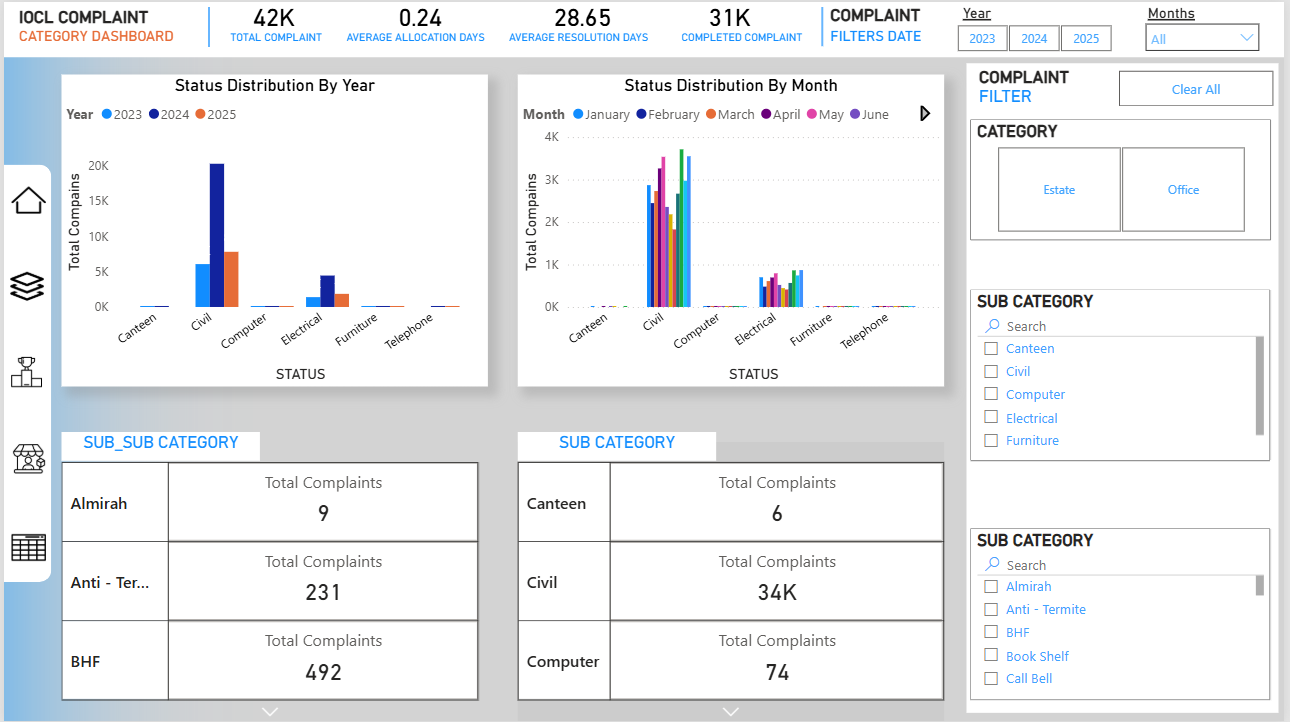

What the dashboard file says about the page in this screenshot:
{"tool":"powerbi","page":{"name":"Categories","canvas":[1280,720],"ordinal":1},"visuals":[{"type":"shape","box":[0,0,1280,55.4],"z":0},{"type":"card","fields":{"Values":["Complaints.Total Complaints"]},"box":[176.6,0,187.8,29.1],"z":1000},{"type":"shape","box":[962,61.6,312.1,649.9],"z":1000,"group":"g1"},{"type":"slicer","fields":{"Values":["Complaints.COMPLAINT_DATE.Variation.Date Hierarchy.Year"]},"box":[927.8,16,203.8,37.6],"z":2000},{"type":"card","fields":{"Values":["Complaints.Average Allocation Days"]},"box":[322.1,0,187.8,29.1],"z":3000},{"type":"textbox","title":"AVERAGE ALLOCATION DAYS","box":[338.1,29.1,155.9,19.7],"z":4000},{"type":"slicer","title":"CATEGORY","fields":{"Values":["Complaints.COMPLAINT_CATEGORY"]},"box":[965.4,117.4,300.5,121.1],"z":4000,"group":"g1"},{"type":"card","fields":{"Values":["Complaints.Average Resolution Days"]},"box":[484.6,0,187.8,29.1],"z":5000},{"type":"slicer","title":"SUB CATEGORY","fields":{"Values":["Complaints.COMPLAINT_SUB_CATEGORY"]},"box":[965.4,287.3,300.1,171],"z":5000,"group":"g1"},{"type":"textbox","title":"AVERAGE RESOLUTION DAYS","box":[500.5,29.1,155.9,19.7],"z":6000},{"type":"slicer","title":"SUB CATEGORY","fields":{"Values":["Complaints.COMPLAINT_SUB_SUB_CATEGORY"]},"box":[965.4,526.8,300.1,171.9],"z":6000,"group":"g1"},{"type":"card","fields":{"Values":["Complaints.Completed Complaints"]},"box":[644.2,0,164.3,29.1],"z":7000},{"type":"textbox","title":"COMPLAINT ","box":[969.2,65.8,101.4,17.8],"z":7000,"group":"g1"},{"type":"textbox","title":"COMPLETED COMPLAINT","box":[672.4,29.1,136.2,19.7],"z":8000},{"type":"textbox","title":"FILTER ","box":[969.2,83.6,108.9,20.7],"z":8000,"group":"g1"},{"type":"textbox","title":"IOCL COMPLAINT","box":[10.3,4.7,142.7,19.7],"z":9000},{"type":"textbox","title":"CATEGORY DASHBOARD","box":[10,25.6,166.7,16.7],"z":10000},{"type":"shape","box":[726.9,4.7,184.1,39.4],"z":11000},{"type":"shape","box":[0,162.5,47.5,417.5],"z":11000,"group":"g2"},{"type":"shape","box":[115.6,4.4,180,40],"z":12000},{"type":"slicer","fields":{"Values":["Complaints.COMPLAINT_DATE.Variation.Date Hierarchy.Month"]},"box":[1131.6,11.3,134.3,42.3],"z":13000},{"type":"textbox","title":"Months","box":[1138.2,2.8,61,16],"z":14000},{"type":"textbox","title":"Year","box":[953.2,2.8,61,16],"z":15000},{"type":"textbox","title":"COMPLAINT","box":[821.7,2.8,106.1,24.4],"z":16000},{"type":"textbox","title":"FILTERS DATE","box":[821.7,24.4,106.1,19.7],"z":17000},{"type":"textbox","title":"TOTAL COMPLAINT","box":[221.6,29.1,116.4,19.7],"z":18000},{"type":"group","id":"g1","title":"Group 1","box":[962,61.6,312.1,649.9],"z":19000},{"type":"actionButton","box":[1115.6,68.9,154.4,35.6],"z":20000},{"type":"cardVisual","fields":{"Data":["Complaints.Total Complaints"],"Rows":["Complaints.COMPLAINT_SUB_SUB_CATEGORY"]},"box":[57.5,440,417.5,280],"z":21000},{"type":"clusteredColumnChart","title":"Status Distribution By Year","fields":{"Category":["Complaints.COMPLAINT_SUB_CATEGORY"],"Y":["Complaints.Total Complaints"],"Series":["Complaints.COMPLAINT_DATE.Variation.Date Hierarchy.Year"]},"box":[57.8,72.2,426.7,312.2],"z":22000},{"type":"actionButton","box":[7.1,182.9,34.3,31.4],"z":23000,"group":"g2"},{"type":"cardVisual","fields":{"Data":["Complaints.Total Complaints"],"Rows":["Complaints.COMPLAINT_SUB_CATEGORY"]},"box":[513.3,440,426.7,280],"z":23000},{"type":"clusteredColumnChart","title":"Status Distribution By Month","fields":{"Category":["Complaints.COMPLAINT_SUB_CATEGORY"],"Y":["Complaints.Total Complaints"],"Series":["Complaints.COMPLAINT_DATE.Variation.Date Hierarchy.Month"]},"box":[513.3,72.2,426.7,312.2],"z":24000},{"type":"actionButton","box":[6.7,267.6,33.3,33.3],"z":24000,"group":"g2"},{"type":"actionButton","box":[6.7,354.2,33,33],"z":25000,"group":"g2"},{"type":"textbox","title":"SUB CATEGORY","box":[513.8,430,198.8,28.8],"z":25000},{"type":"textbox","title":"SUB_SUB CATEGORY","box":[57.5,430,198.8,28.8],"z":26000},{"type":"actionButton","box":[8.7,440.5,32.7,33.3],"z":26000,"group":"g2"},{"type":"group","id":"g2","title":"Group 2","box":[0,162.5,47.5,417.5],"z":27000},{"type":"actionButton","box":[7.1,527.1,34.3,35.7],"z":27000,"group":"g2"}]}

Visuals, with their boxes in screenshot pixels (x1, y1, x2, y2), scaled from the page's 1280x720 canvas onto the 1290x722 screenshot:
shape: box(0, 0, 1289, 56)
card - Complaints.Total Complaints: box(178, 0, 367, 29)
shape: box(970, 62, 1284, 713)
slicer - Complaints.COMPLAINT_DATE.Variation.Date Hierarchy.Year: box(935, 16, 1140, 54)
card - Complaints.Average Allocation Days: box(325, 0, 514, 29)
"AVERAGE ALLOCATION DAYS" textbox: box(341, 29, 498, 49)
"CATEGORY" slicer: box(973, 118, 1276, 239)
card - Complaints.Average Resolution Days: box(488, 0, 678, 29)
"SUB CATEGORY" slicer: box(973, 288, 1275, 460)
"AVERAGE RESOLUTION DAYS" textbox: box(504, 29, 662, 49)
"SUB CATEGORY" slicer: box(973, 528, 1275, 701)
card - Complaints.Completed Complaints: box(649, 0, 815, 29)
"COMPLAINT " textbox: box(977, 66, 1079, 84)
"COMPLETED COMPLAINT" textbox: box(678, 29, 815, 49)
"FILTER " textbox: box(977, 84, 1087, 105)
"IOCL COMPLAINT" textbox: box(10, 5, 154, 24)
"CATEGORY DASHBOARD" textbox: box(10, 26, 178, 42)
shape: box(733, 5, 918, 44)
shape: box(0, 163, 48, 582)
shape: box(117, 4, 298, 45)
slicer - Complaints.COMPLAINT_DATE.Variation.Date Hierarchy.Month: box(1140, 11, 1276, 54)
"Months" textbox: box(1147, 3, 1209, 19)
"Year" textbox: box(961, 3, 1022, 19)
"COMPLAINT" textbox: box(828, 3, 935, 27)
"FILTERS DATE" textbox: box(828, 24, 935, 44)
"TOTAL COMPLAINT" textbox: box(223, 29, 341, 49)
"Group 1" group: box(970, 62, 1284, 713)
actionButton: box(1124, 69, 1280, 105)
cardVisual - Complaints.Total Complaints x Complaints.COMPLAINT_SUB_SUB_CATEGORY: box(58, 441, 479, 721)
"Status Distribution By Year" clusteredColumnChart: box(58, 72, 488, 385)
actionButton: box(7, 183, 42, 215)
cardVisual - Complaints.Total Complaints x Complaints.COMPLAINT_SUB_CATEGORY: box(517, 441, 947, 721)
"Status Distribution By Month" clusteredColumnChart: box(517, 72, 947, 385)
actionButton: box(7, 268, 40, 302)
actionButton: box(7, 355, 40, 388)
"SUB CATEGORY" textbox: box(518, 431, 718, 460)
"SUB_SUB CATEGORY" textbox: box(58, 431, 258, 460)
actionButton: box(9, 442, 42, 475)
"Group 2" group: box(0, 163, 48, 582)
actionButton: box(7, 529, 42, 564)
